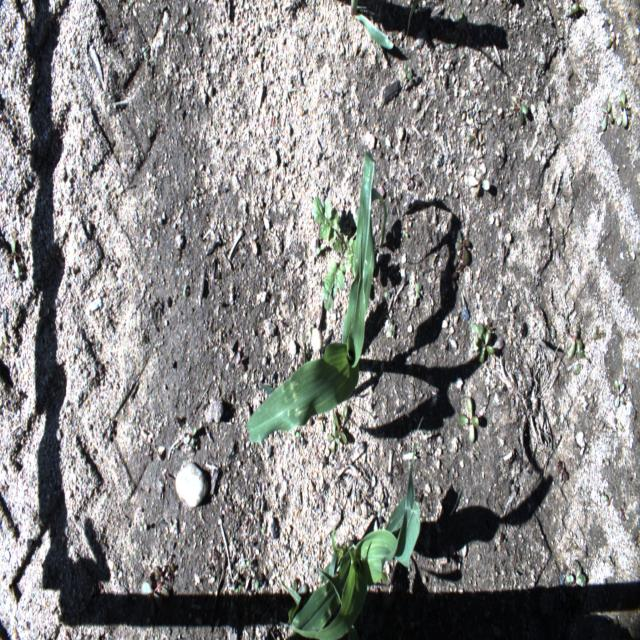crop: (244, 149, 387, 444), (280, 443, 421, 639), (350, 0, 394, 51), (407, 0, 419, 37)
weed: (311, 194, 356, 314), (142, 562, 176, 605), (448, 228, 471, 290), (458, 394, 481, 442), (471, 318, 494, 362), (567, 323, 586, 375), (467, 165, 490, 197), (615, 90, 631, 130), (332, 406, 348, 444), (566, 558, 585, 587), (511, 95, 528, 127), (449, 11, 463, 49), (600, 101, 614, 131), (327, 422, 340, 454), (10, 236, 19, 280), (0, 330, 16, 354), (613, 379, 626, 407), (290, 577, 308, 596), (465, 127, 479, 149), (182, 426, 198, 444), (558, 224, 568, 251), (556, 460, 568, 482), (590, 323, 605, 340), (565, 1, 579, 18), (375, 492, 384, 518), (354, 488, 361, 517), (250, 570, 259, 589), (403, 61, 411, 82), (598, 492, 610, 506), (606, 32, 615, 49), (617, 500, 625, 519), (316, 243, 326, 256), (303, 341, 309, 361), (570, 531, 576, 548), (234, 584, 243, 595), (240, 559, 250, 568), (388, 324, 394, 339), (291, 428, 300, 438), (141, 44, 147, 58), (415, 282, 419, 300)
